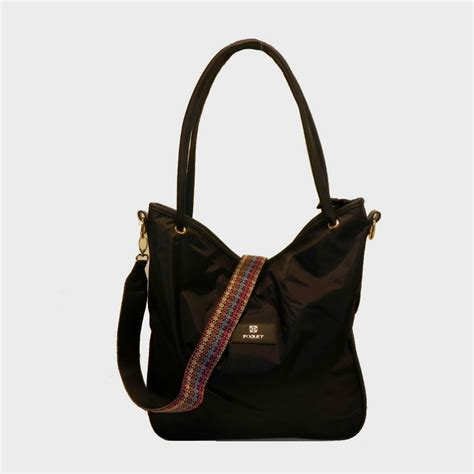nylon: (118, 197, 375, 441)
